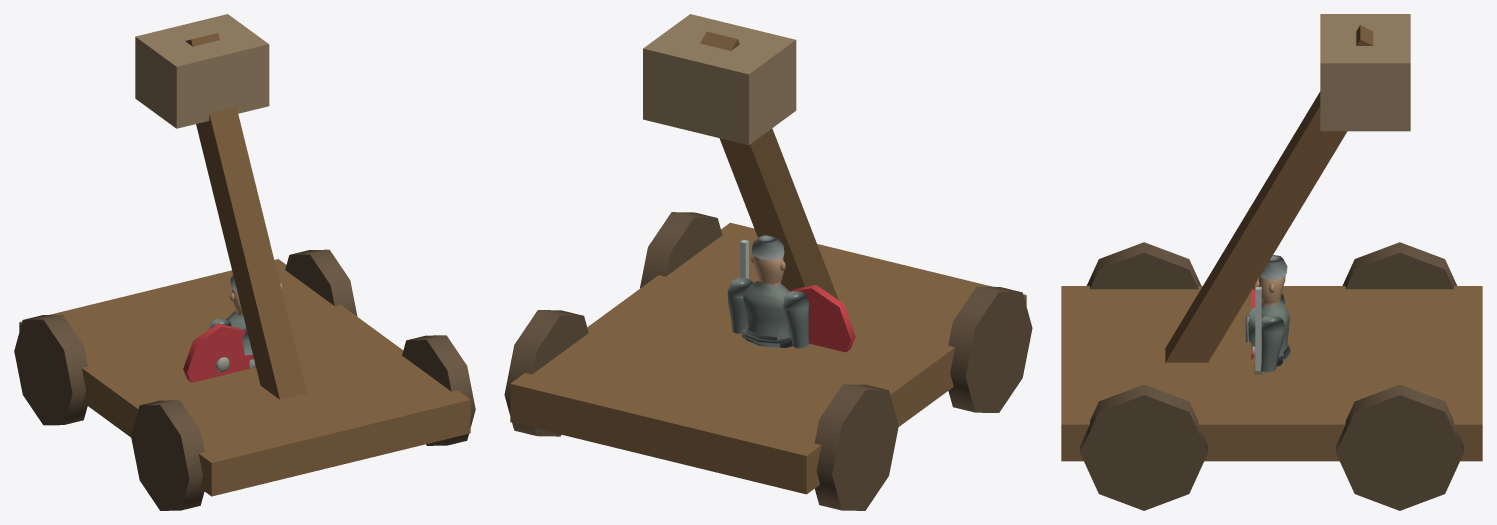
The model's file is catapult_team1.glb.
3 renders of one model, left to right at view 1: azimuth 30°, elevation 25°; view 2: azimuth 150°, elevation 25°; view 3: azimuth 270°, elevation 25°, orthographic. The views are drawn at different scales.
Visible parts, largest first — view 1: part_11, part_16, part_17, part_12, part_13, part_15, part_3, part_14; view 2: part_11, part_17, part_12, part_13, part_16, part_14, part_15, part_0, part_3, part_1, part_2, part_5; view 3: part_11, part_16, part_14, part_15, part_17, part_12, part_13, part_5, part_1, part_0, part_6.
Boxes of the visible parts, <box> form: part_11: <box>19,259,470,496</box>; part_16: <box>185,33,306,399</box>; part_17: <box>135,14,269,128</box>; part_12: <box>14,314,87,425</box>; part_13: <box>131,400,204,510</box>; part_15: <box>402,335,475,445</box>; part_3: <box>183,324,253,382</box>; part_14: <box>285,249,357,316</box>; part_11: <box>510,222,1026,494</box>; part_17: <box>643,14,796,145</box>; part_12: <box>814,384,898,510</box>; part_13: <box>948,286,1032,412</box>; part_16: <box>700,31,838,299</box>; part_14: <box>504,310,588,436</box>; part_15: <box>640,212,722,288</box>; part_0: <box>743,281,791,347</box>; part_3: <box>789,285,855,352</box>; part_1: <box>751,235,785,285</box>; part_2: <box>783,291,809,348</box>; part_5: <box>727,278,752,333</box>; part_11: <box>1061,286,1482,461</box>; part_16: <box>1165,25,1373,362</box>; part_14: <box>1336,384,1463,510</box>; part_15: <box>1080,384,1207,510</box>; part_17: <box>1320,14,1410,131</box>; part_12: <box>1342,242,1457,289</box>; part_13: <box>1086,242,1201,289</box>; part_5: <box>1261,315,1285,372</box>; part_1: <box>1252,255,1287,306</box>; part_0: <box>1245,299,1290,362</box>; part_6: <box>1255,287,1261,370</box>.
Size of the model in its own units: 2.32 by 2.85 by 2.7.
